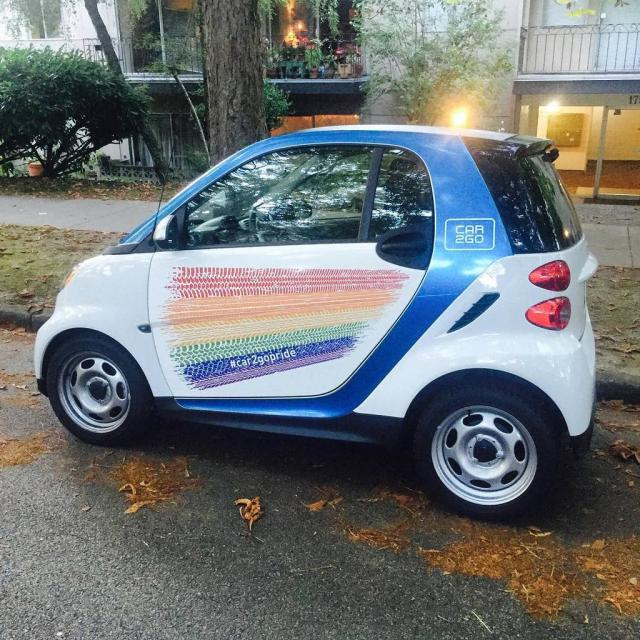car: (33, 122, 595, 516)
